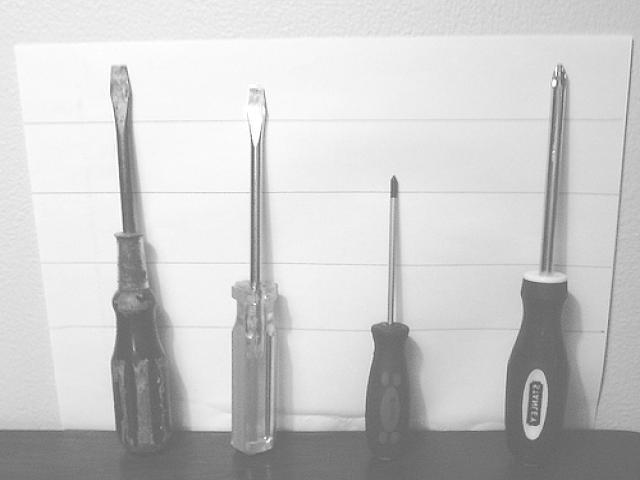Screwdriver: (506, 64, 569, 466), (110, 66, 171, 452), (231, 86, 278, 453), (365, 176, 410, 459)
